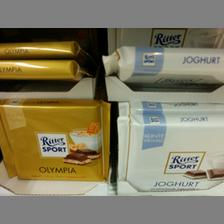Schokolade: (0, 96, 108, 180), (113, 113, 223, 191), (99, 43, 223, 85)
